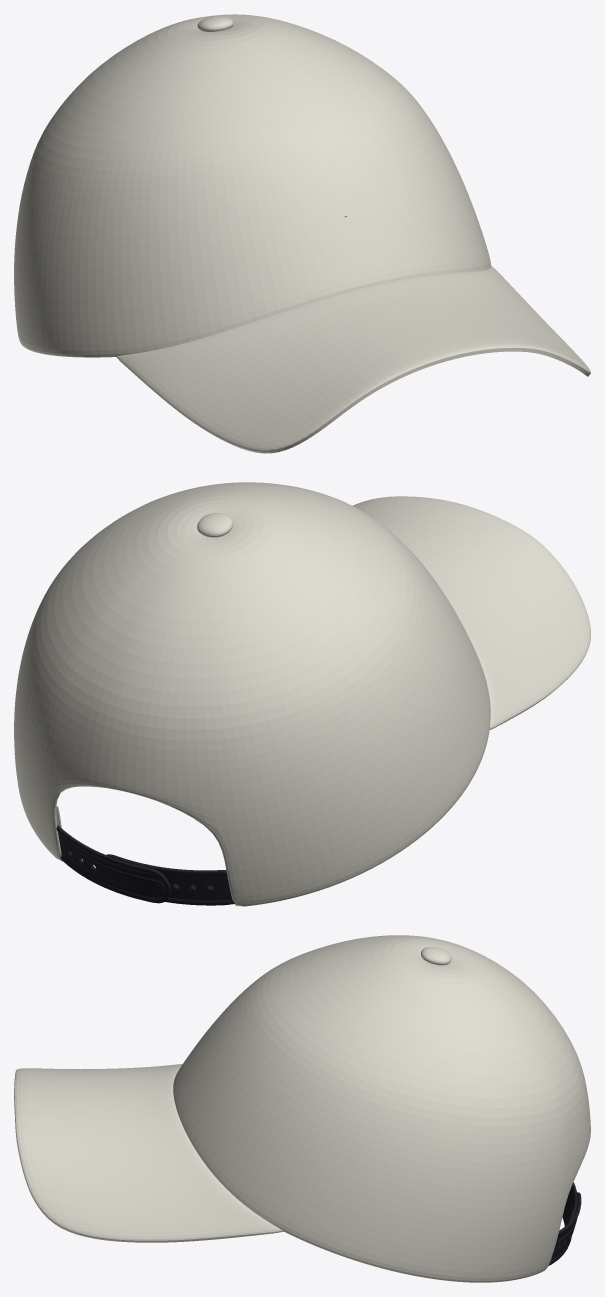
The model's file is cap-baseball.glb.
3 renders of one model, top to bottom at view 1: azimuth 30°, elevation 25°; view 2: azimuth 150°, elevation 25°; view 3: azimuth 270°, elevation 25°, orthographic. The views are drawn at different scales.
Visible parts, largest first — view 1: mainCap, bill; view 2: mainCap, bill, strapAdjust_female, strapAdjust_male, topButton; view 3: mainCap, bill, strapAdjust_female.
Boxes of the visible parts, x1,y1,x2,y2 form: mainCap: (14, 14, 490, 357); bill: (116, 265, 590, 453); mainCap: (14, 482, 490, 906); bill: (353, 496, 590, 729); strapAdjust_female: (56, 825, 170, 903); strapAdjust_male: (104, 854, 234, 905); topButton: (197, 513, 233, 537); mainCap: (173, 935, 590, 1282); bill: (14, 1064, 283, 1242); strapAdjust_female: (548, 1192, 581, 1265).
Size of the model in its own units: 2.65 by 2 by 3.67.
4 materials, 1 textured.
